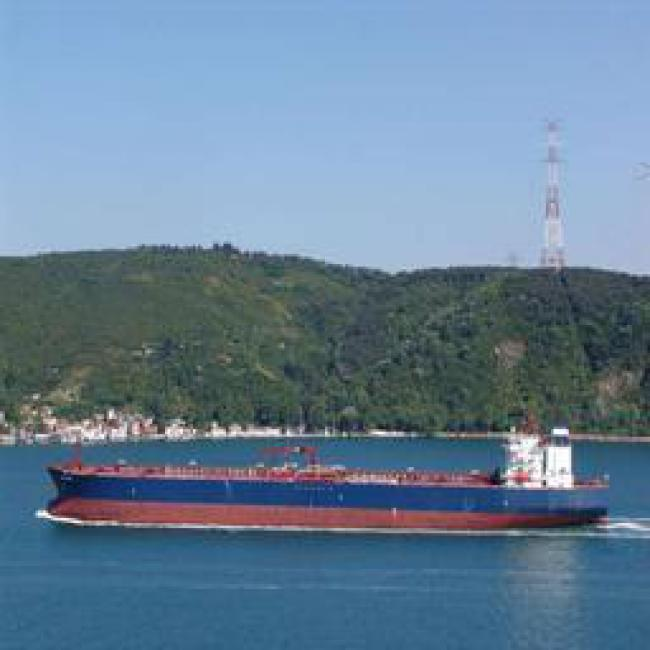Ship: (43, 444, 621, 540)
